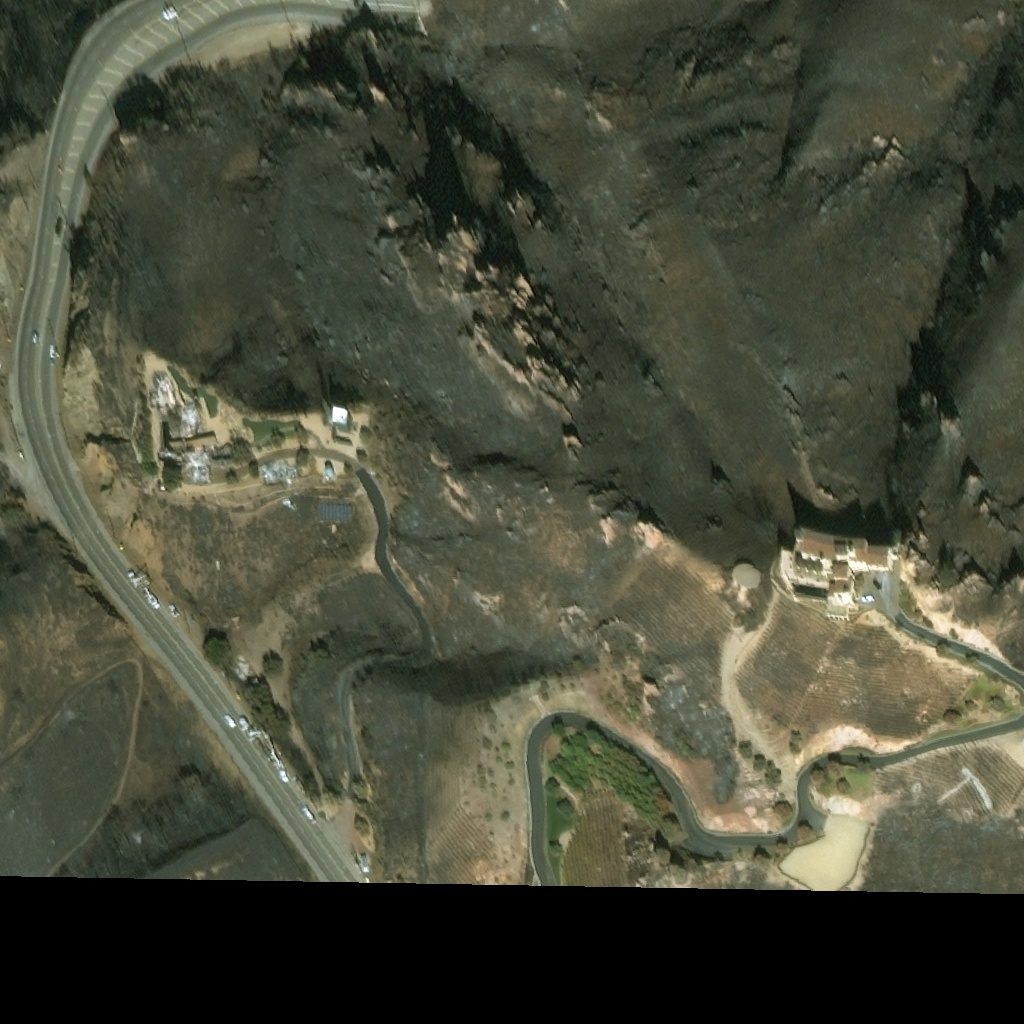0 no-damage: (800, 538, 889, 569), (829, 569, 853, 599), (734, 565, 761, 589), (333, 409, 350, 426)
3 destroyed: (159, 444, 231, 473), (166, 397, 201, 439), (146, 375, 172, 404), (263, 461, 293, 478)
